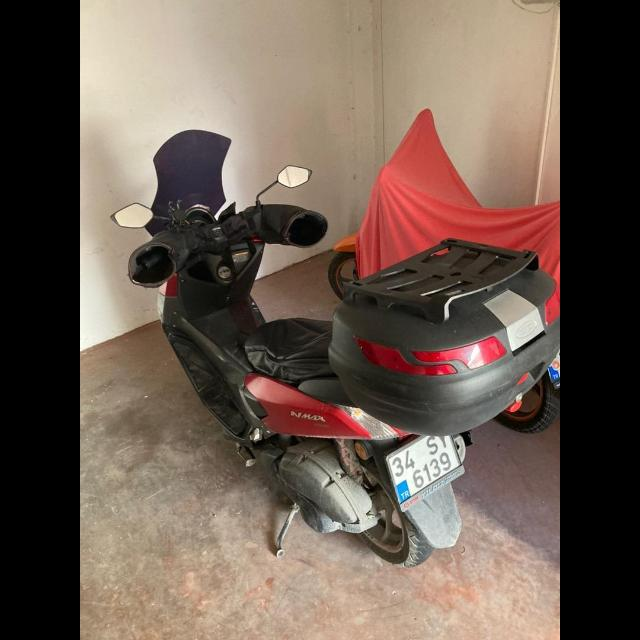Plaka: (389, 433, 469, 507)
